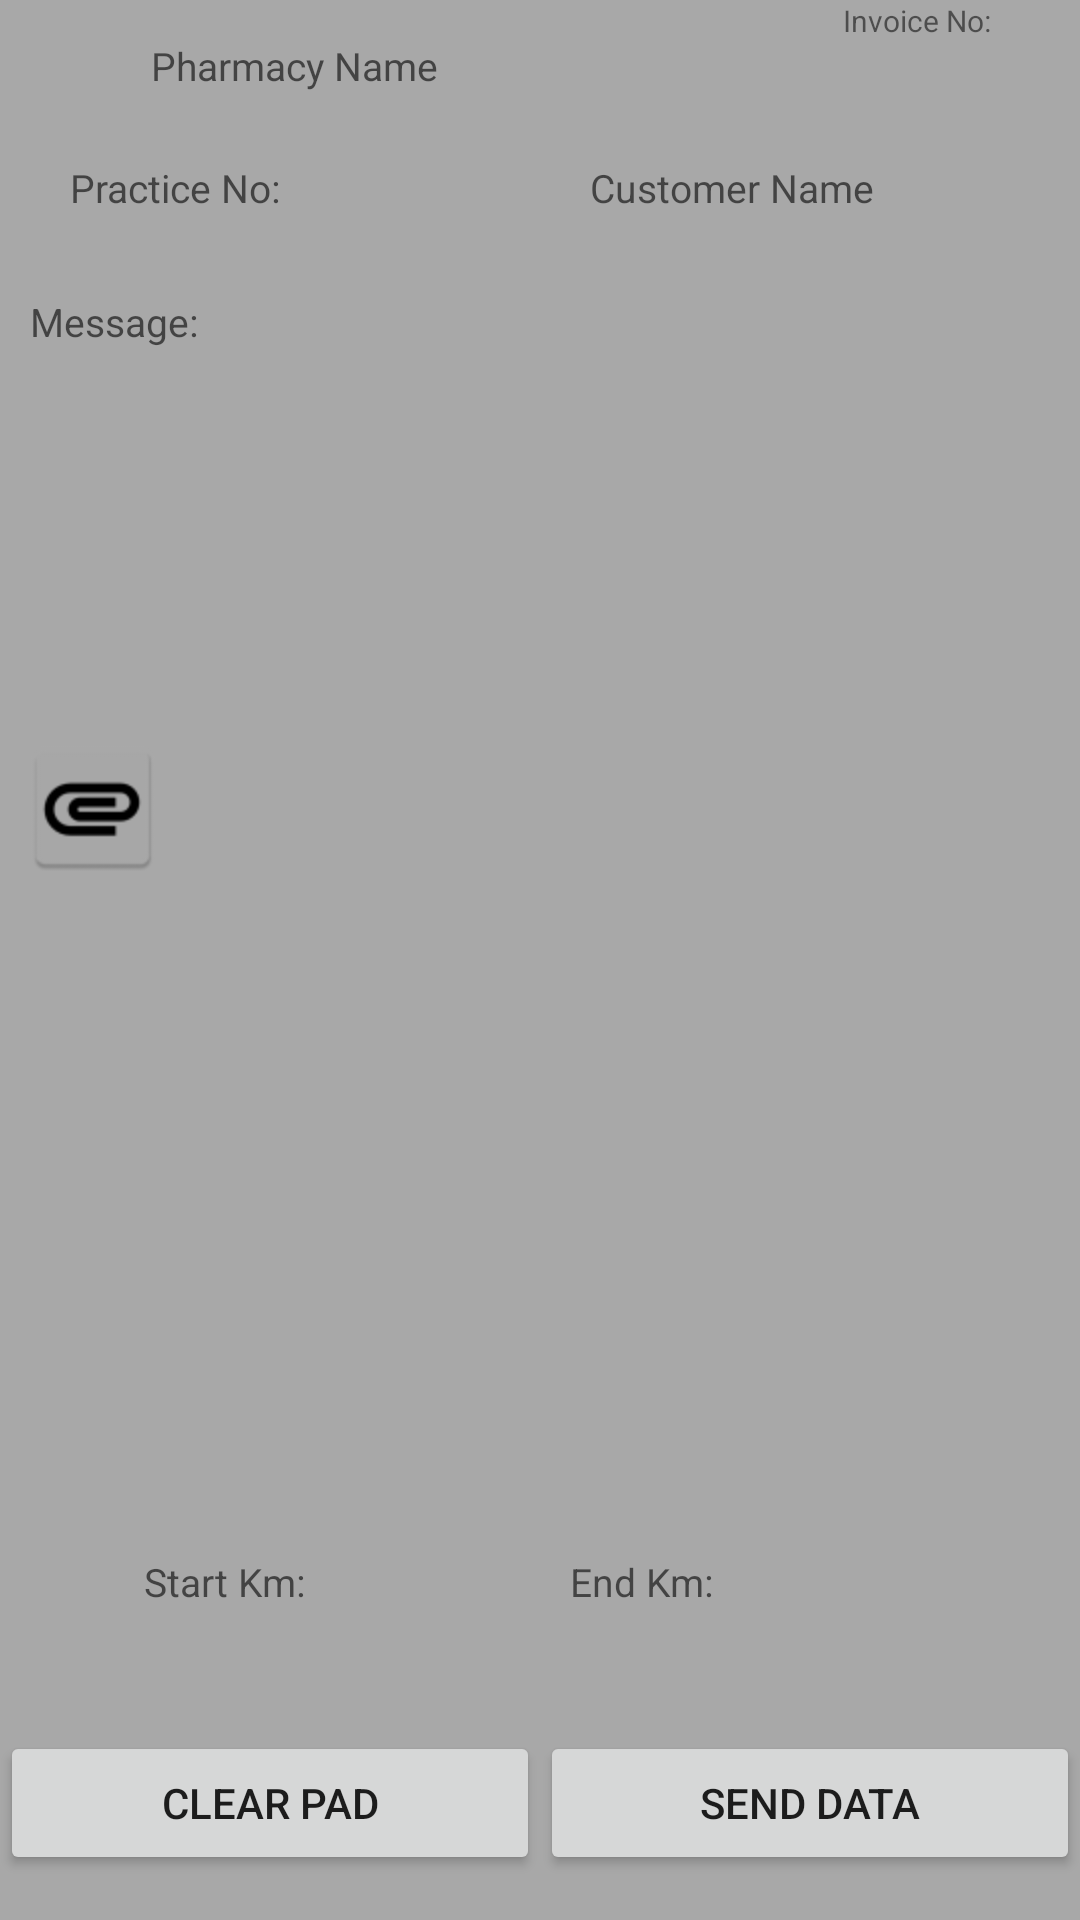

Locate icon controls on the screen. Image size 1080x1920, boxes as (x1, y1, x2, y2).
attached: (38, 782, 149, 868)
